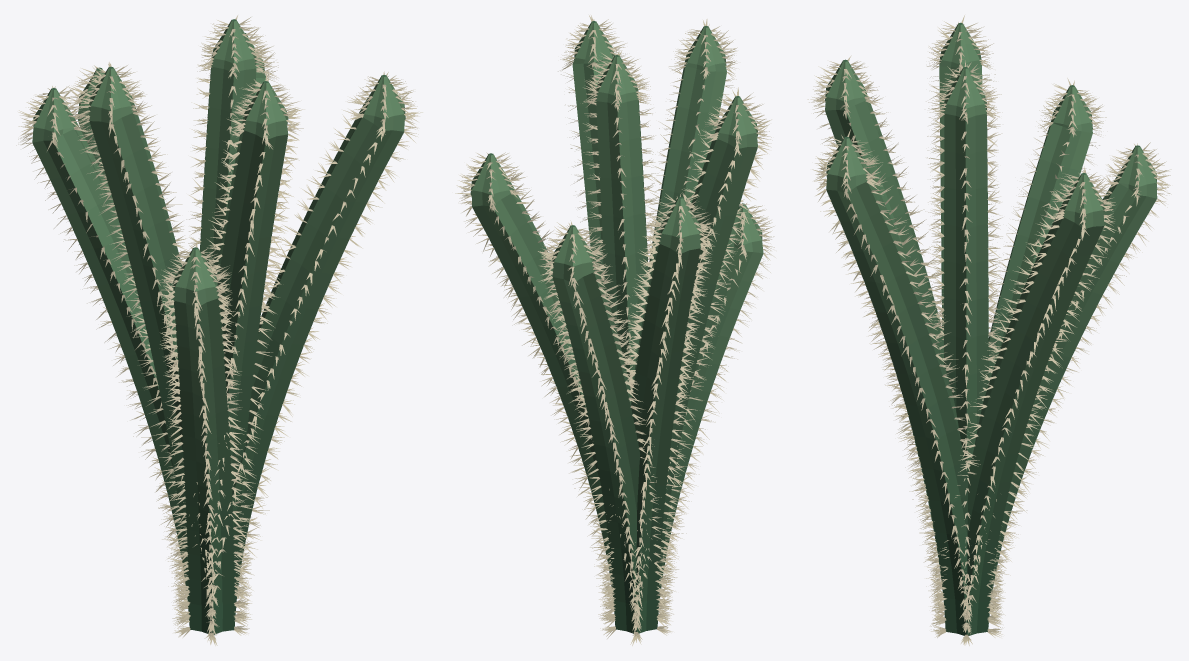
File: organ_pipe.glb
3 renders of one model, left to right at view 1: azimuth 30°, elevation 25°; view 2: azimuth 150°, elevation 25°; view 3: azimuth 270°, elevation 25°, orthographic. The views are drawn at different scales.
Visible parts, largest first — view 1: Stem_8, Stem_6, Stem_7, Stem_5, Stem_4, Stem_1, Stem_3, Stem_2; view 2: Stem_3, Stem_4, Stem_2, Stem_1, Stem_5, Stem_6, Stem_7, Stem_8; view 3: Stem_8, Stem_2, Stem_1, Stem_3, Stem_4, Stem_7, Stem_5, Stem_6.
Boxes of the visible parts, bbox=[...] form: Stem_8: bbox=[174, 71, 422, 637]; Stem_6: bbox=[157, 241, 251, 644]; Stem_7: bbox=[174, 71, 304, 639]; Stem_5: bbox=[75, 62, 249, 645]; Stem_4: bbox=[16, 85, 248, 640]; Stem_1: bbox=[172, 15, 273, 639]; Stem_3: bbox=[66, 65, 248, 638]; Stem_2: bbox=[174, 33, 278, 641]; Stem_3: bbox=[538, 220, 673, 642]; Stem_4: bbox=[601, 192, 717, 645]; Stem_2: bbox=[455, 152, 671, 639]; Stem_1: bbox=[582, 50, 671, 641]; Stem_5: bbox=[600, 87, 772, 644]; Stem_6: bbox=[600, 203, 775, 638]; Stem_7: bbox=[600, 19, 737, 637]; Stem_8: bbox=[558, 15, 672, 638]; Stem_8: bbox=[812, 129, 1000, 643]; Stem_2: bbox=[932, 166, 1118, 645]; Stem_1: bbox=[928, 60, 1004, 645]; Stem_3: bbox=[933, 142, 1171, 644]; Stem_4: bbox=[932, 78, 1106, 645]; Stem_7: bbox=[807, 55, 1002, 638]; Stem_5: bbox=[925, 15, 1003, 640]; Stem_6: bbox=[841, 235, 1002, 641].
Bounding box in the file's own units: 2.71 × 5.45 × 3.17.
